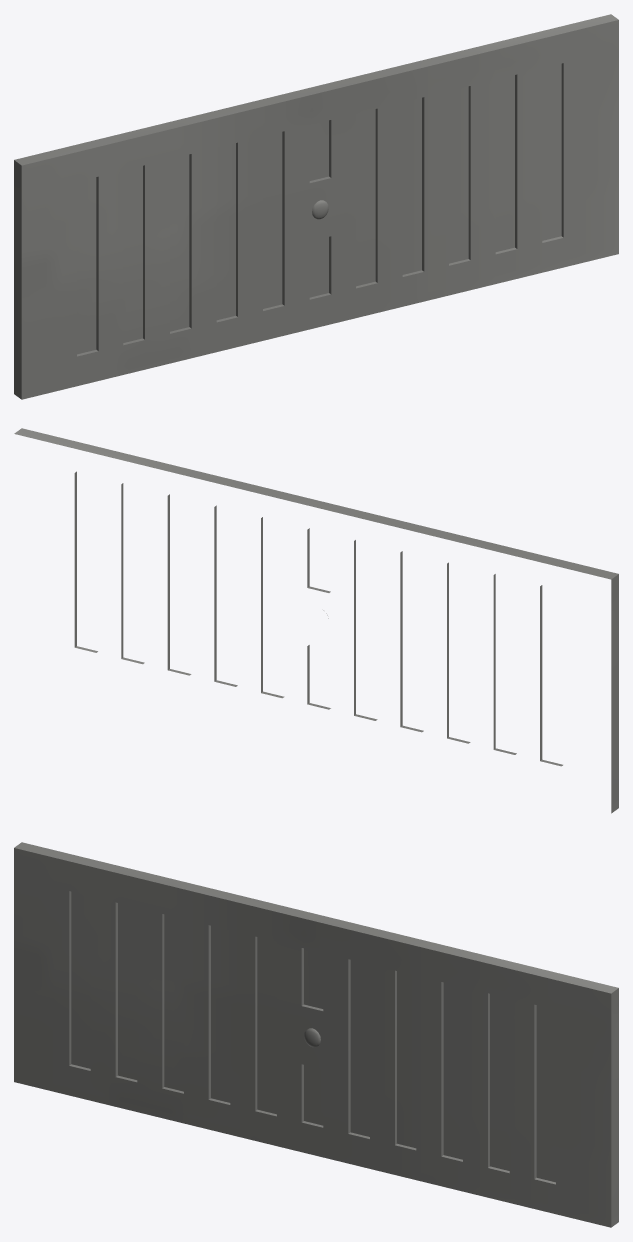
Rendered from air_vent.glb.
3 views of the same model, one above another, from view 1: azimuth 30°, elevation 25°; view 2: azimuth 150°, elevation 25°; view 3: azimuth 330°, elevation 25° (orthographic).
Visible parts, largest first — view 1: air_vent; view 2: air_vent; view 3: air_vent.
Part boxes in pixels (x1,y1,x2,y2): air_vent: (14,14,618,399); air_vent: (14,428,618,813); air_vent: (14,842,618,1227).
Bounding box in the file's own units: 0.2802 × 0.105 × 0.00749.
Materials: 1 (1 with a texture image).
